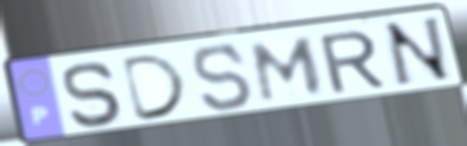D: (119, 51, 192, 125)
M: (249, 34, 327, 105)
N: (380, 14, 457, 91)
R: (315, 27, 389, 97)
S: (60, 59, 129, 130), (189, 42, 257, 114)
